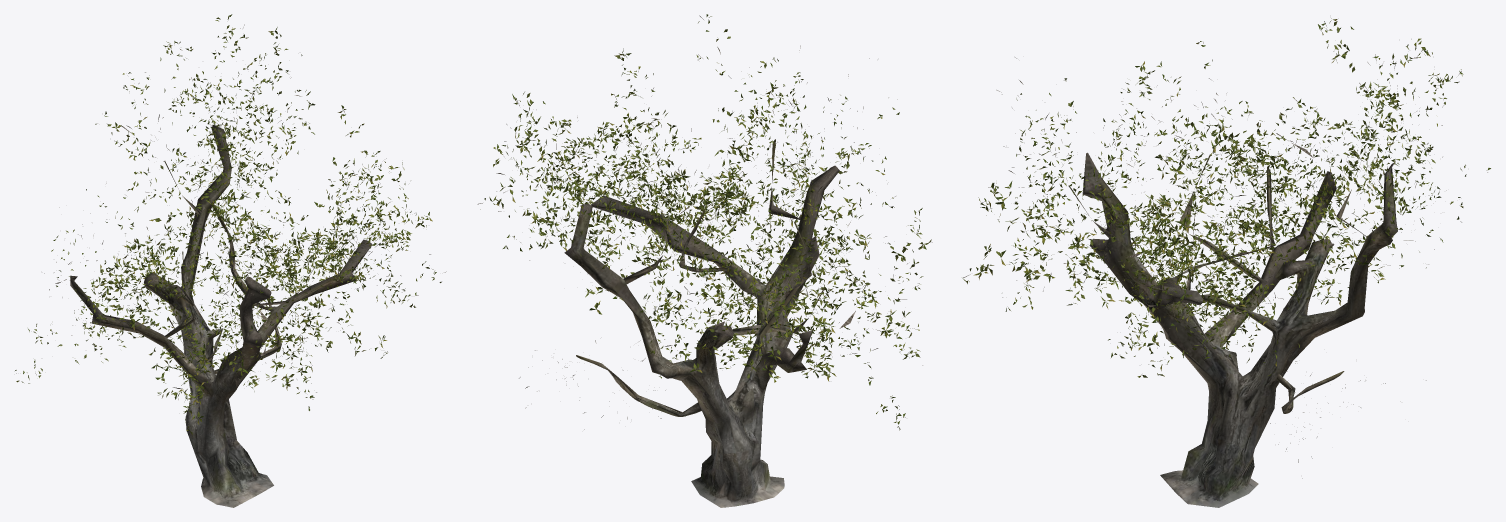
Rendered from island_tree_01.glb.
3 views of the same model, side by side, from view 1: azimuth 30°, elevation 25°; view 2: azimuth 150°, elevation 25°; view 3: azimuth 270°, elevation 25° (orthographic). The views are drawn at different scales.
Visible parts, largest first — view 1: island_tree_01 (×3); view 2: island_tree_01 (×3); view 3: island_tree_01 (×3).
Part boxes in pixels (left/top/right/bottom): island_tree_01 (×3): left=15, top=14, right=446, bottom=507; island_tree_01 (×3): left=477, top=14, right=932, bottom=507; island_tree_01 (×3): left=962, top=18, right=1490, bottom=507.
Bounding box in the file's own units: 4.68 × 4.98 × 4.79.
Materials: 3 (3 with a texture image).
